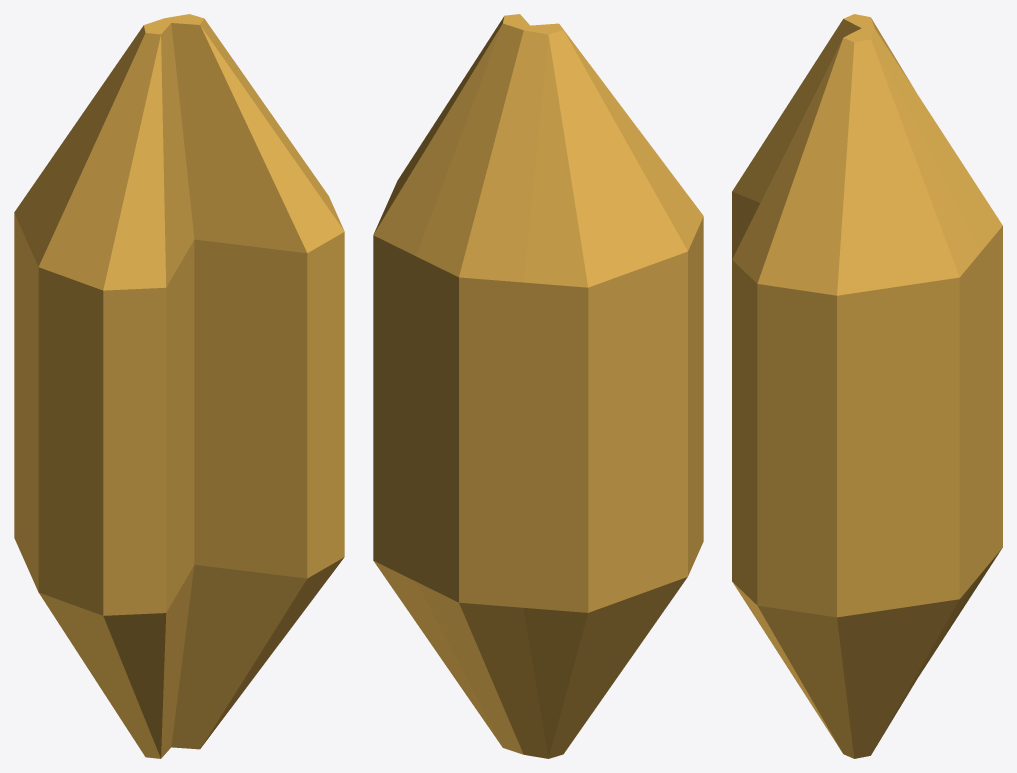
The model's file is Seed.fbx.
The picture shows the model from 3 angles, left to right: view 1: azimuth 30°, elevation 25°; view 2: azimuth 150°, elevation 25°; view 3: azimuth 270°, elevation 25°; orthographic projection.
Parts seen in each view (by area): view 1: Cube; view 2: Cube; view 3: Cube.
Part boxes in pixels (x1=…): Cube: x1=14, y1=14, x2=344, y2=758; Cube: x1=373, y1=14, x2=703, y2=758; Cube: x1=732, y1=14, x2=1002, y2=758.
Size of the model in its own units: 270 by 644 by 221.
